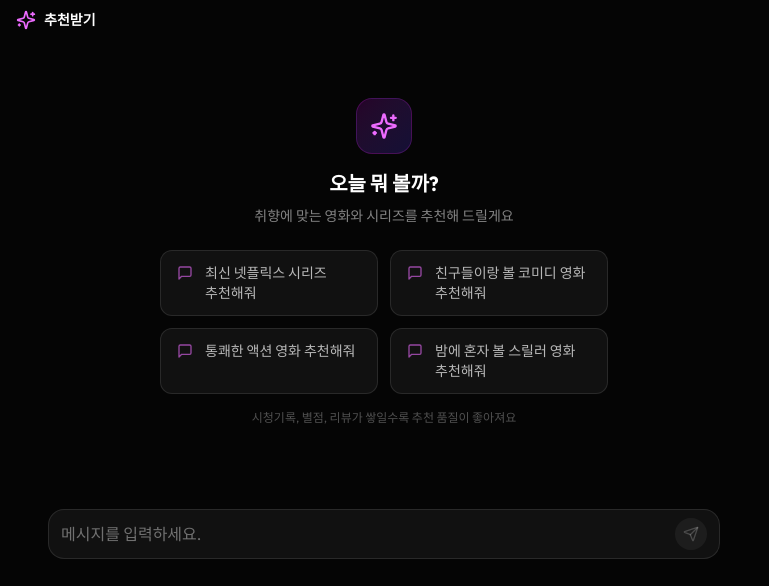
Scenario: ChatSection › 네트워크 예외는 chat_response_failed를 한 번만 기록해야 한다
In the text box with placeholder "메시지를 입력하세요.": {"x": 364, "y": 534} 61,518 -> 667,550, type "네트워크 실패 테스트"
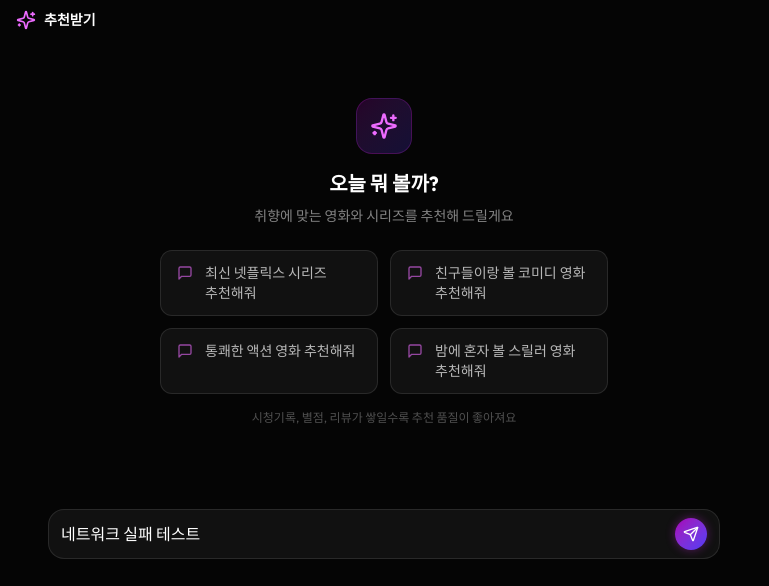
Press Enter in the text box with placeholder "메시지를 입력하세요.", box 61,518 -> 667,550
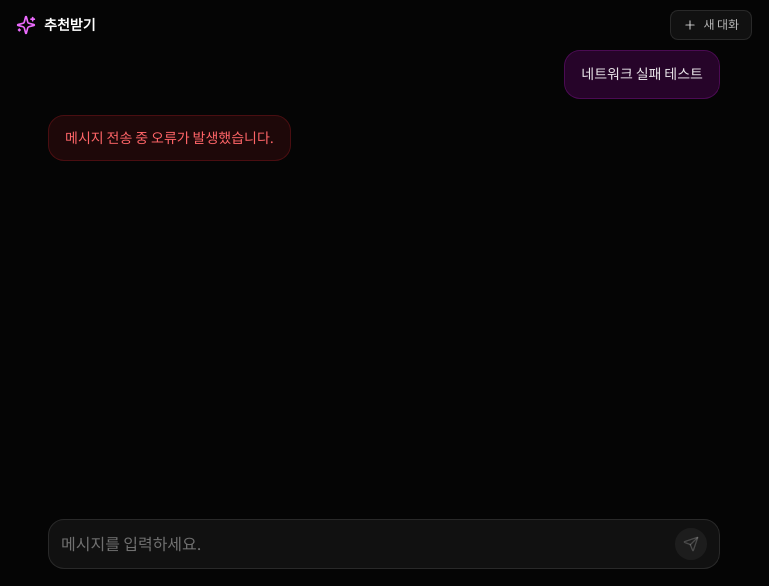
Expected: the text "메시지 전송 중 오류가 발생했습니다." is shown, 48,115 -> 291,161
